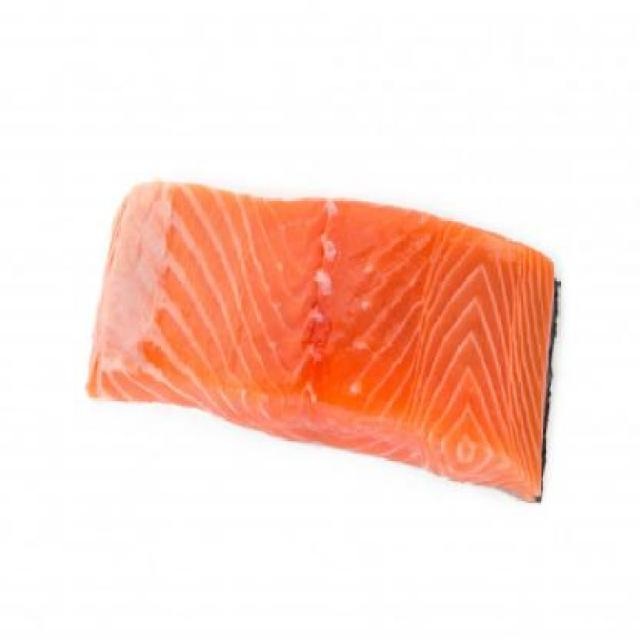salmon: (82, 177, 566, 511)
